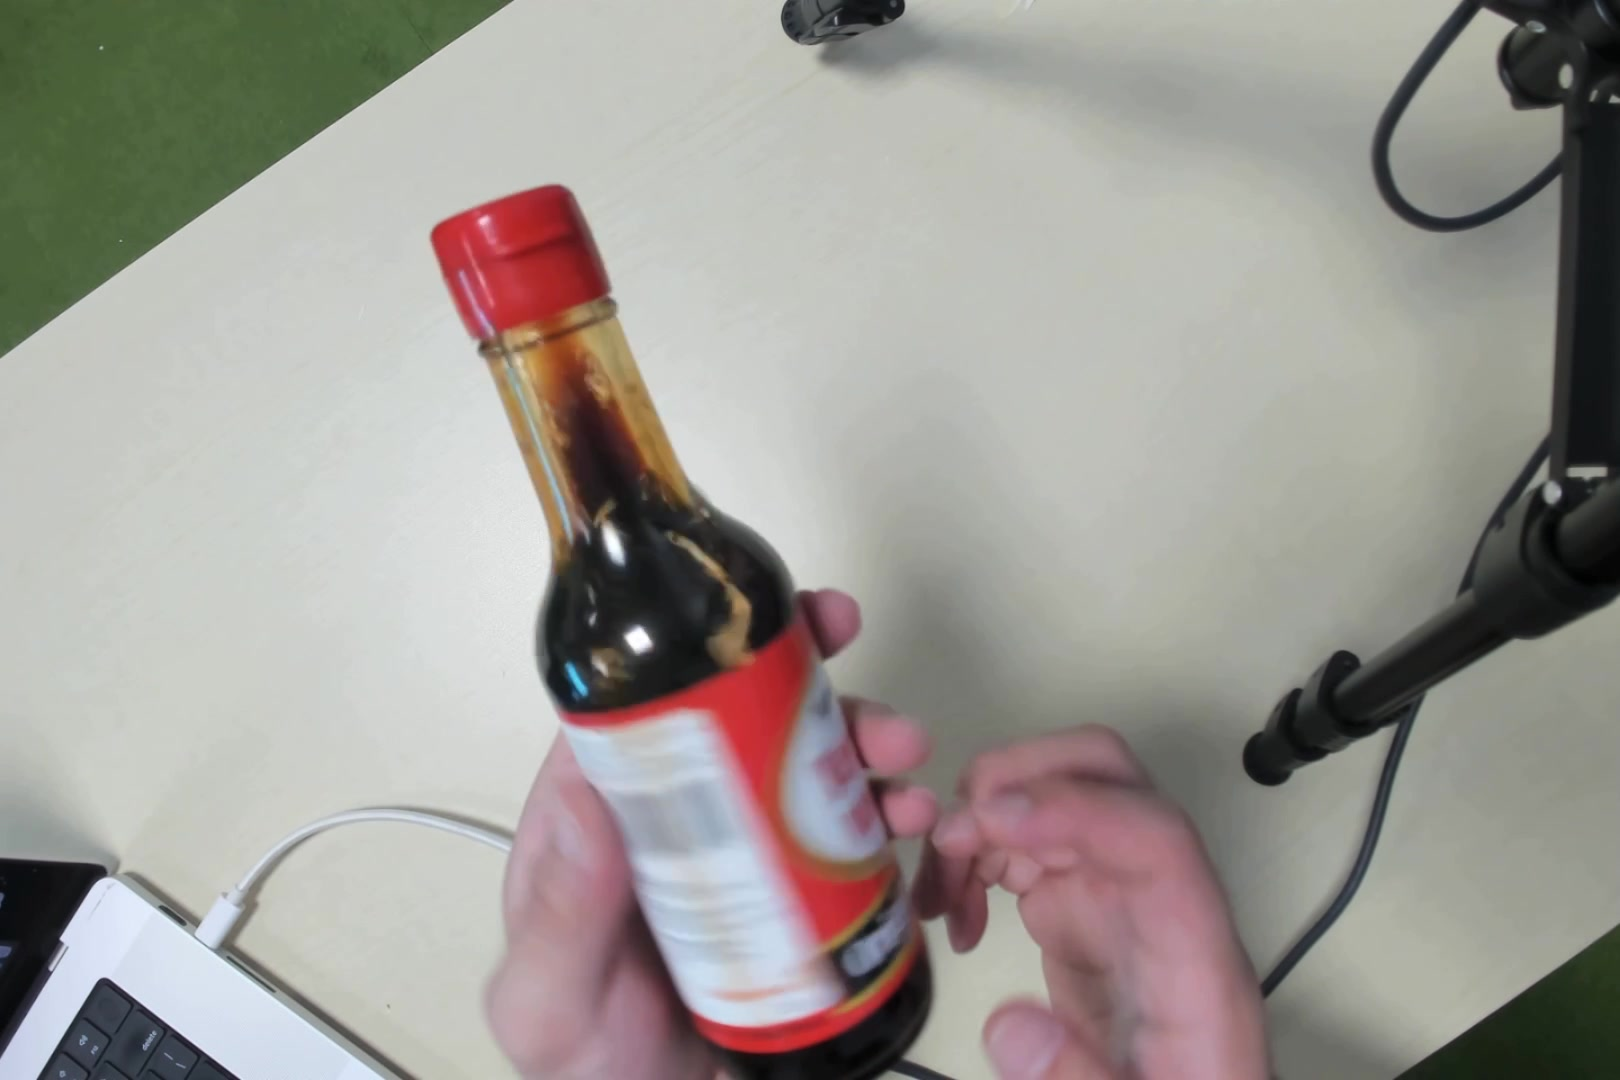OtherSauceDressingSoupbasePaste_200-299g_NonHalal_NonHealthy: (481, 260, 902, 1025)
